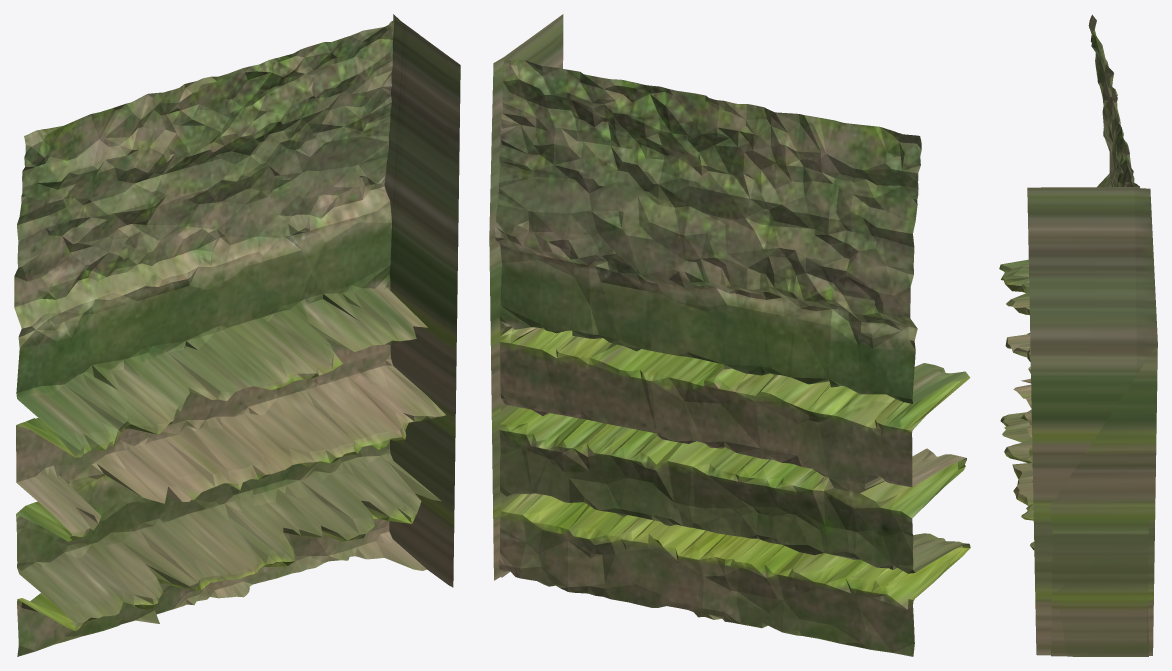
Rendered from map_250_100.obj.
3 views of the same model, side by side, from view 1: azimuth 30°, elevation 25°; view 2: azimuth 150°, elevation 25°; view 3: azimuth 270°, elevation 25° (orthographic). The views are drawn at different scales.
Parts seen in each view (by area): view 1: grp1; view 2: grp1; view 3: grp1.
Boxes of the visible parts, x1,y1,x2,y2 form: grp1: (14,14,460,656); grp1: (489,14,970,656); grp1: (999,14,1157,656).
Bounding box in the file's own units: 8 × 10 × 3.07.
1 material, 1 textured.
